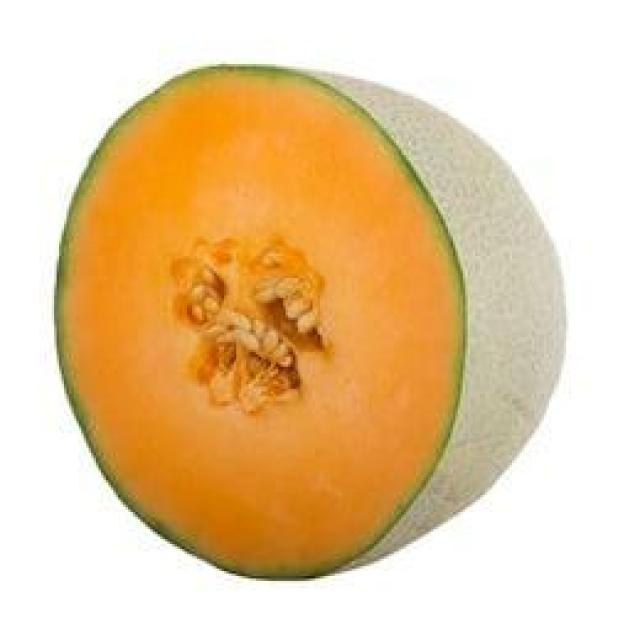cantaloupe: (55, 62, 568, 580)
